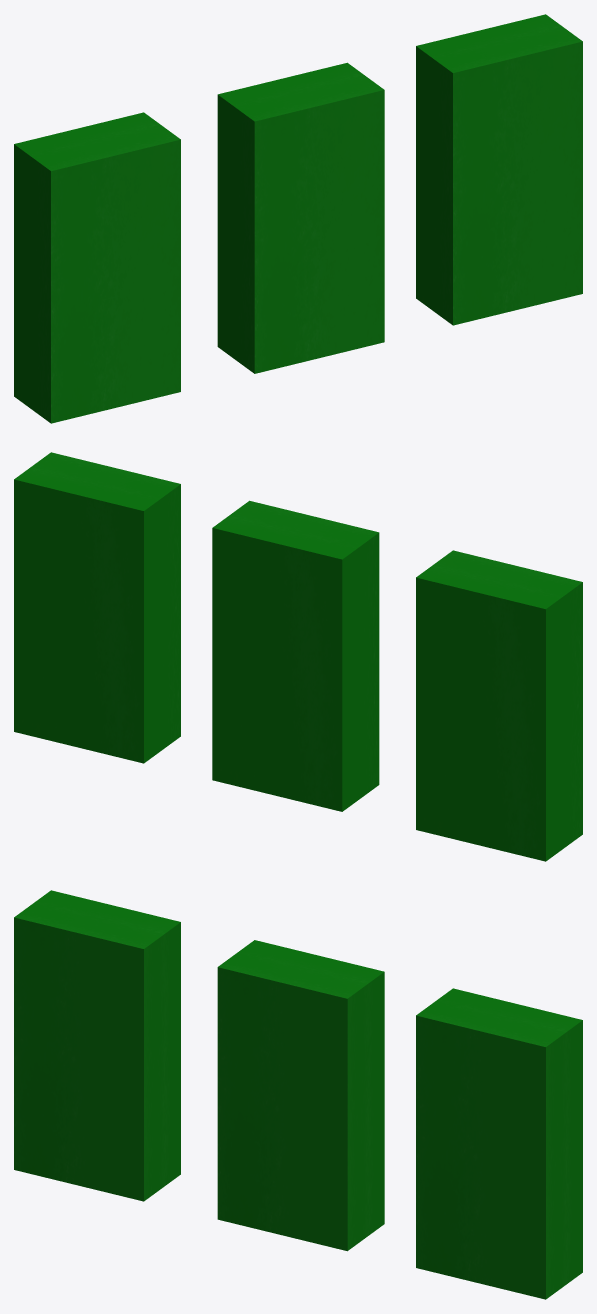
The model's file is doujou_kakeziku_flame.obj.
3 renders of one model, top to bottom at view 1: azimuth 30°, elevation 25°; view 2: azimuth 150°, elevation 25°; view 3: azimuth 330°, elevation 25°, orthographic.
Visible parts, largest first — view 1: 立方体.001; view 2: 立方体.001; view 3: 立方体.001.
Boxes of the visible parts, x1,y1,x2,y2 form: 立方体.001: (14, 14, 582, 423); 立方体.001: (14, 452, 582, 861); 立方体.001: (14, 890, 582, 1299).
Size of the model in its own units: 232 by 105 by 27.98.
Materials: 3 (3 with a texture image).
